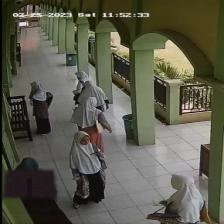Cadar_Niqab: (3, 155, 56, 197)
